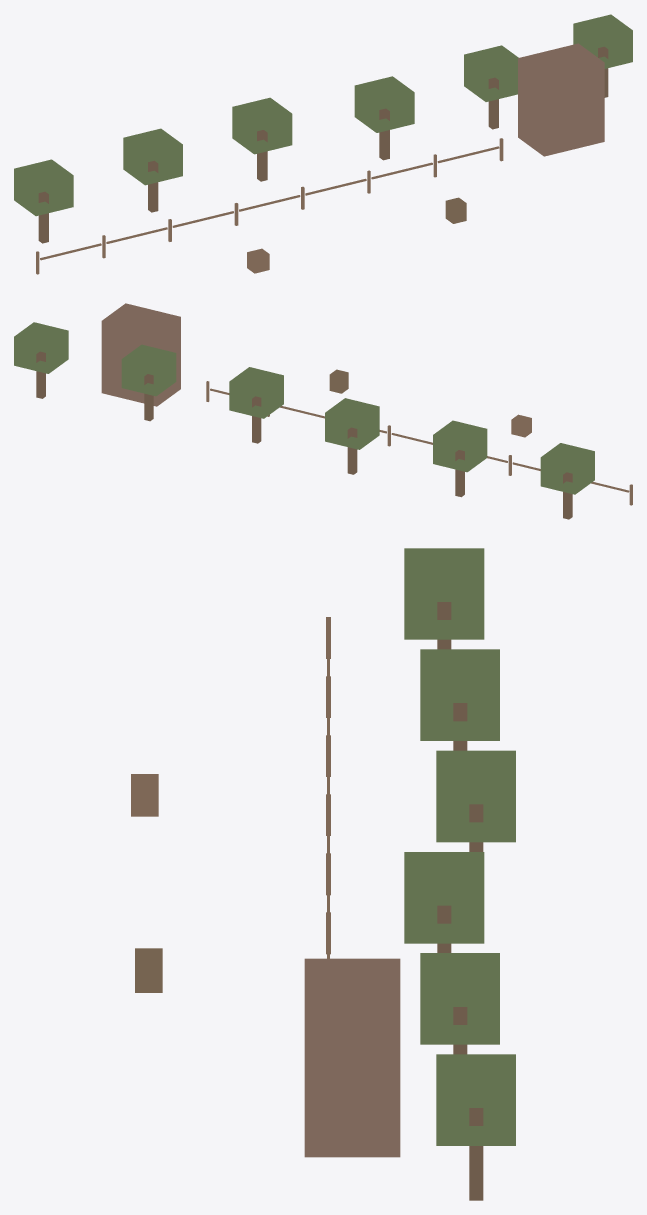
Rendered from fringe_props.glb.
The picture shows the model from 3 angles, top to bottom: view 1: azimuth 30°, elevation 25°; view 2: azimuth 150°, elevation 25°; view 3: azimuth 270°, elevation 25°; orthographic projection. The views are drawn at different scales.
Parts seen in each view (by area): view 1: FringeProps; view 2: FringeProps; view 3: FringeProps.
Part boxes in pixels (<box>): FringeProps: <box>14,14,632,274</box>; FringeProps: <box>14,303,632,519</box>; FringeProps: <box>131,548,515,1200</box>.
Size of the model in its own units: 33.06 by 4 by 9.65.
